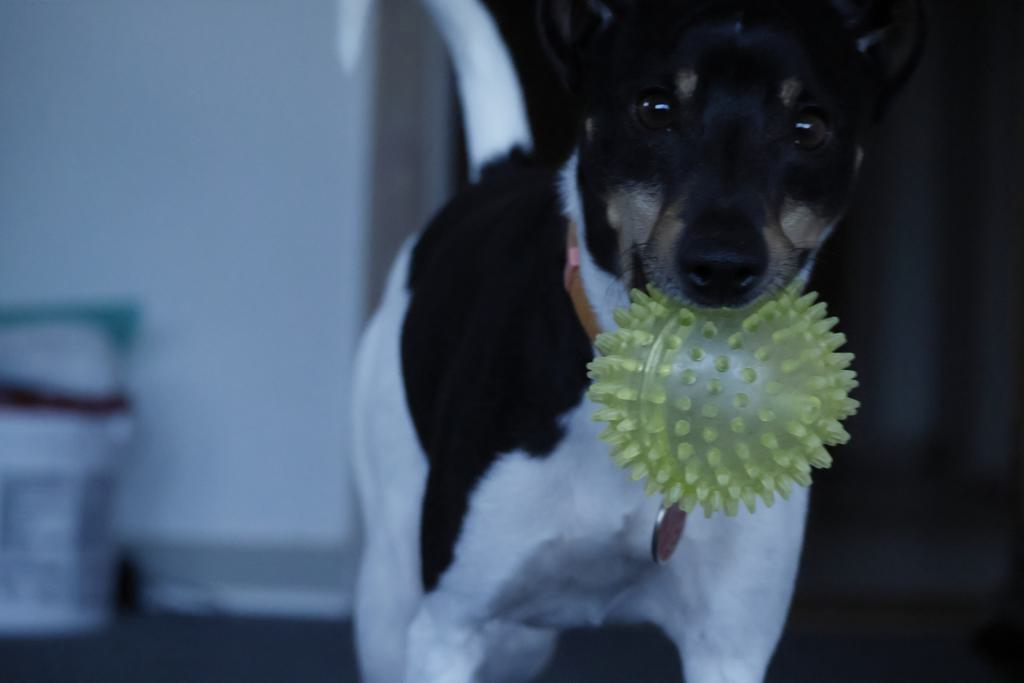Dog: (320, 0, 948, 683)
